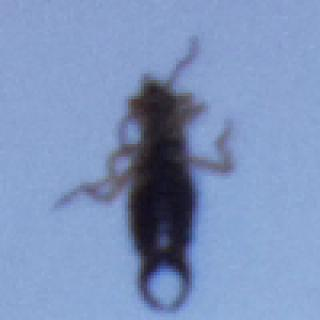earwig: (50, 28, 238, 317)
